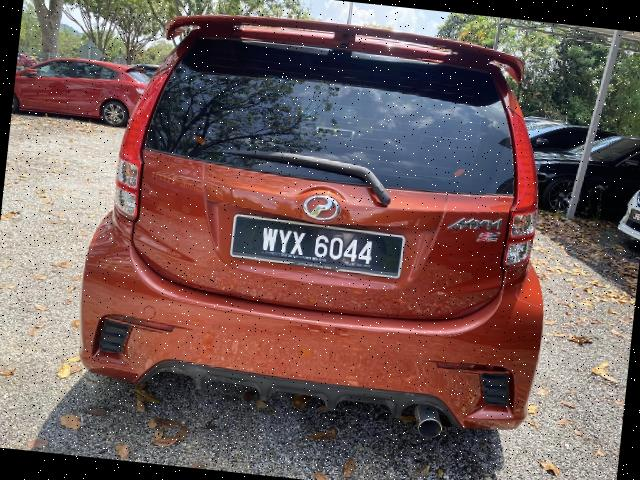License_Plate: (232, 218, 405, 277)
car: (65, 1, 575, 449)
